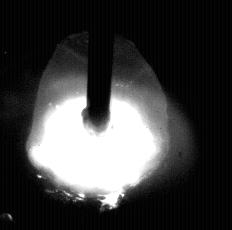arame: (88, 0, 111, 134)
poca: (26, 0, 172, 230)
